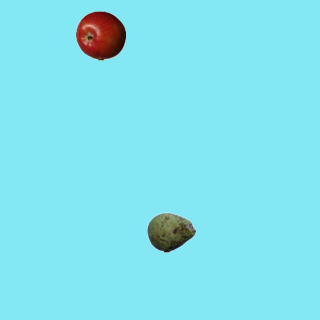Apple Braeburn: (75, 10, 125, 60)
Pear Stone: (146, 207, 196, 257)
